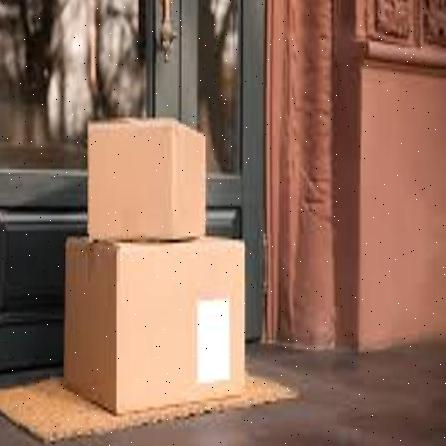Other: (52, 236, 252, 420), (76, 117, 211, 245)
